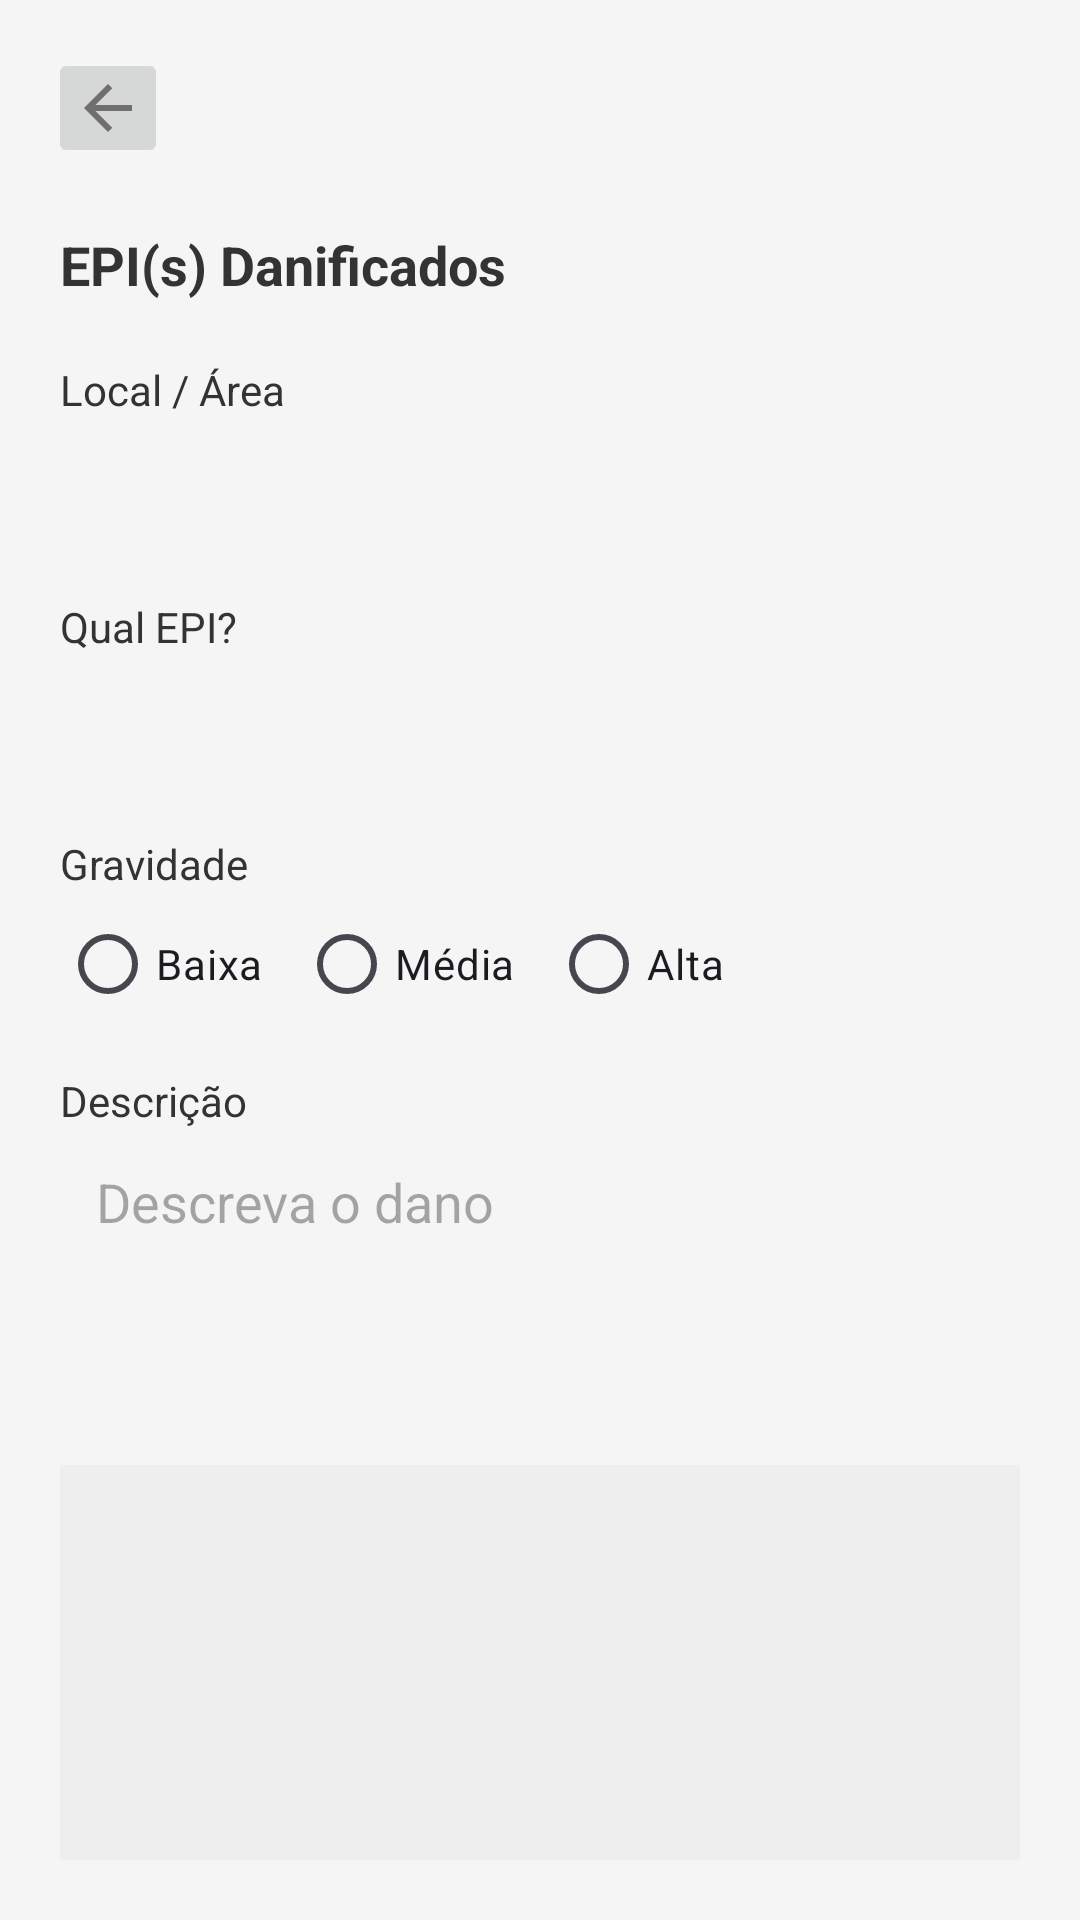

Where icons sit on this 1080px×1920px app screen, as (x1, y1, x2, y2):
Voltar: (60, 66, 156, 150)
